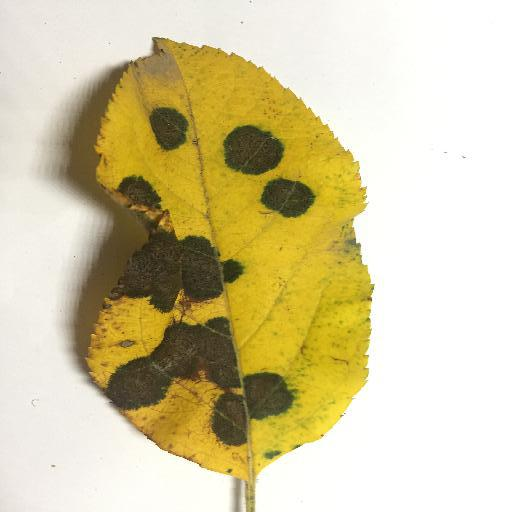Brown_Spot: (114, 330, 246, 449), (126, 230, 243, 310), (263, 178, 320, 222), (229, 127, 281, 173), (148, 106, 187, 151), (118, 173, 168, 208), (249, 373, 289, 414)
